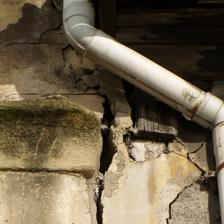Crack: (18, 88, 105, 121), (11, 16, 58, 77), (71, 99, 154, 125), (111, 61, 149, 94)
